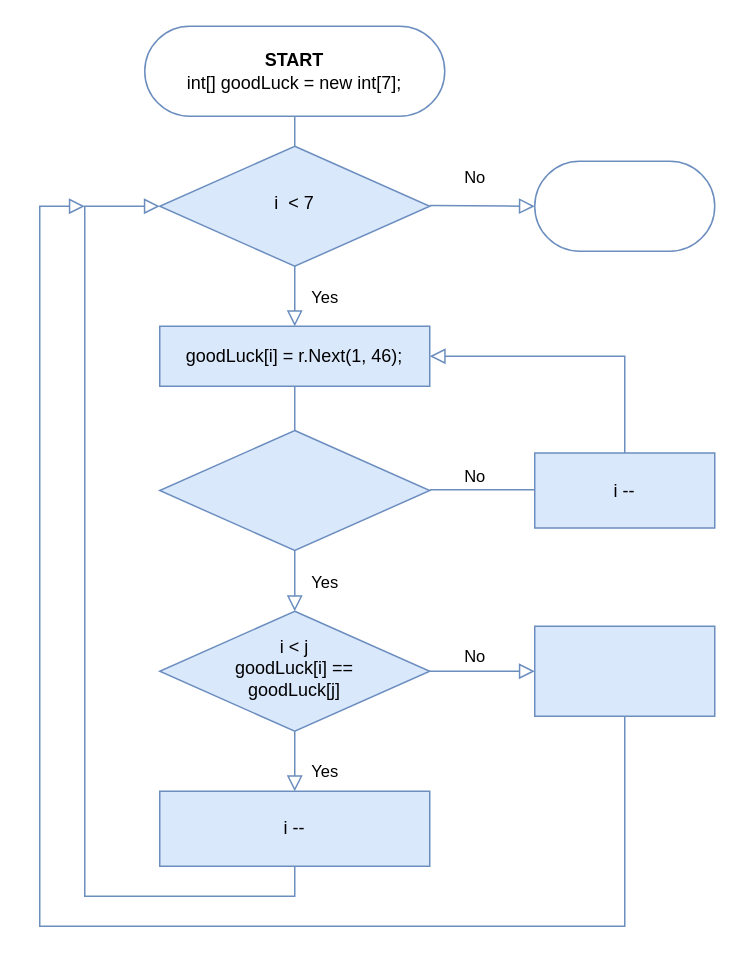
Image size: 741x968. Some labels were removed from this diagram. The shapes that lost their labels are listed below. From the top down, each one's centre as x and y in pixels, then its label:
the point at 624,205: END
the point at 294,489: goodLuck[i] 당첨확률 > 90%
the point at 624,670: goodLuck[i]값 저장, i ++
